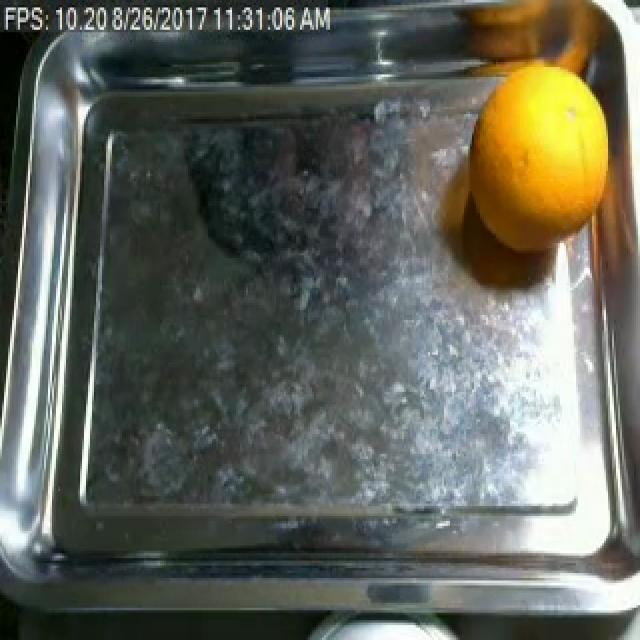Fruit: (460, 52, 620, 266), (444, 0, 618, 82)
